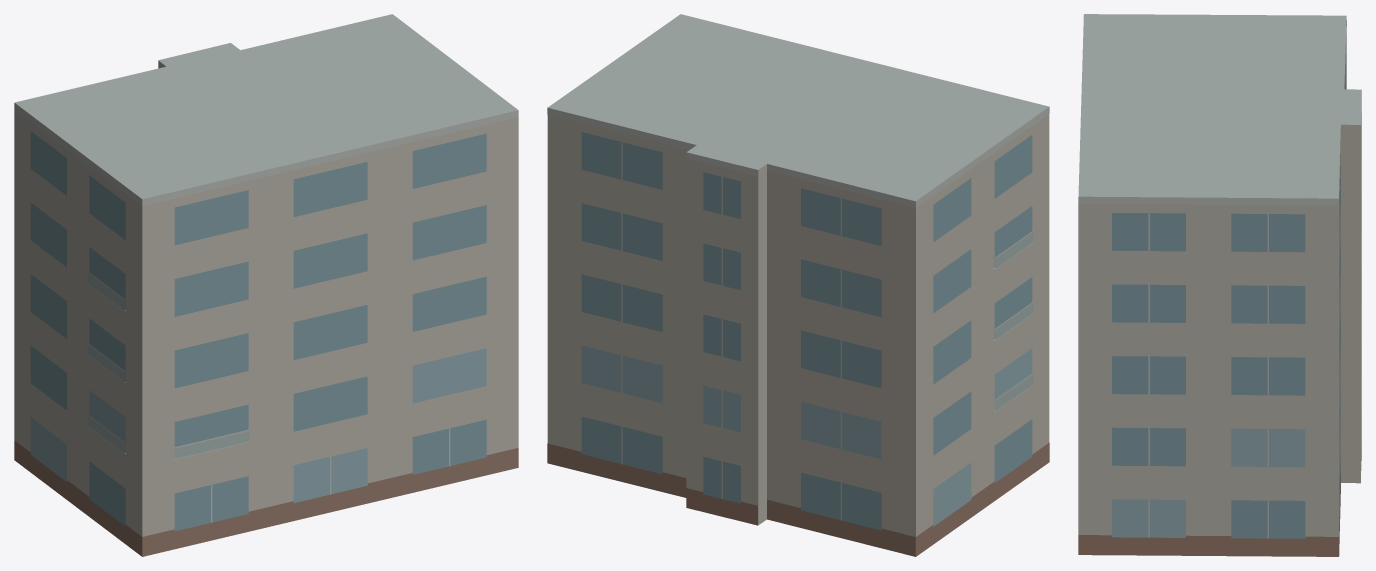
File: survey-upis-32636932.glb
The picture shows the model from 3 angles, left to right: view 1: azimuth 30°, elevation 25°; view 2: azimuth 150°, elevation 25°; view 3: azimuth 270°, elevation 25°; orthographic projection.
Parts seen in each view (by area): view 1: survey-upis-32636932.tmp; view 2: survey-upis-32636932.tmp; view 3: survey-upis-32636932.tmp.
Boxes of the visible parts, bbox=[...] form: survey-upis-32636932.tmp: bbox=[14, 14, 518, 556]; survey-upis-32636932.tmp: bbox=[547, 14, 1049, 556]; survey-upis-32636932.tmp: bbox=[1078, 14, 1361, 556].
Bounding box in the file's own units: 13.9 × 12.55 × 9.
